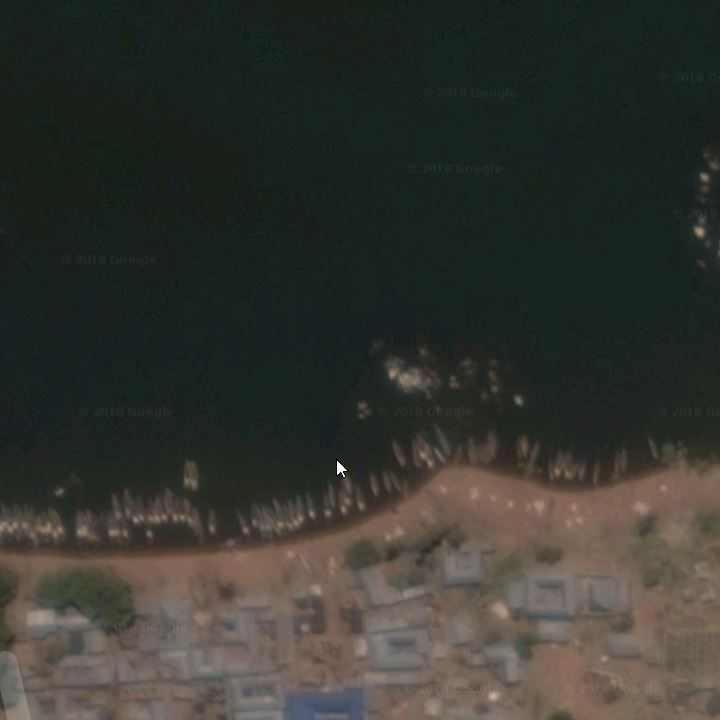boat: (385, 434, 410, 469), (431, 420, 453, 456), (415, 429, 431, 474), (232, 501, 249, 543), (644, 426, 661, 465), (52, 502, 66, 549), (177, 452, 192, 494), (525, 440, 541, 479), (116, 485, 132, 523), (377, 461, 393, 499), (250, 498, 266, 535), (274, 495, 290, 532), (115, 507, 126, 557), (405, 438, 419, 477), (265, 499, 281, 533), (339, 469, 356, 500), (429, 440, 449, 466), (90, 503, 102, 546), (463, 429, 477, 465), (127, 499, 141, 535), (363, 466, 378, 499), (109, 488, 123, 523), (287, 497, 301, 532), (192, 503, 203, 547), (304, 489, 317, 526), (550, 445, 561, 488), (103, 507, 115, 546), (296, 490, 307, 532), (72, 504, 82, 550), (189, 454, 201, 492), (608, 448, 620, 486), (390, 467, 404, 498), (167, 490, 179, 526), (326, 480, 338, 516), (81, 507, 91, 550), (41, 505, 51, 547), (143, 511, 154, 548), (205, 504, 218, 535), (340, 489, 356, 514), (356, 480, 367, 516), (16, 506, 26, 545), (591, 457, 602, 492), (321, 493, 333, 525), (489, 426, 500, 460), (7, 506, 15, 552), (48, 511, 59, 544), (560, 445, 568, 489), (177, 493, 187, 528), (569, 448, 578, 486), (512, 432, 523, 463), (150, 499, 161, 529), (134, 493, 143, 528), (33, 505, 41, 544), (159, 497, 169, 528), (336, 487, 346, 517), (520, 429, 530, 459), (186, 499, 195, 532), (145, 498, 154, 529), (1, 506, 8, 544), (621, 440, 628, 478), (27, 507, 33, 544), (547, 455, 554, 483), (580, 456, 586, 486)
